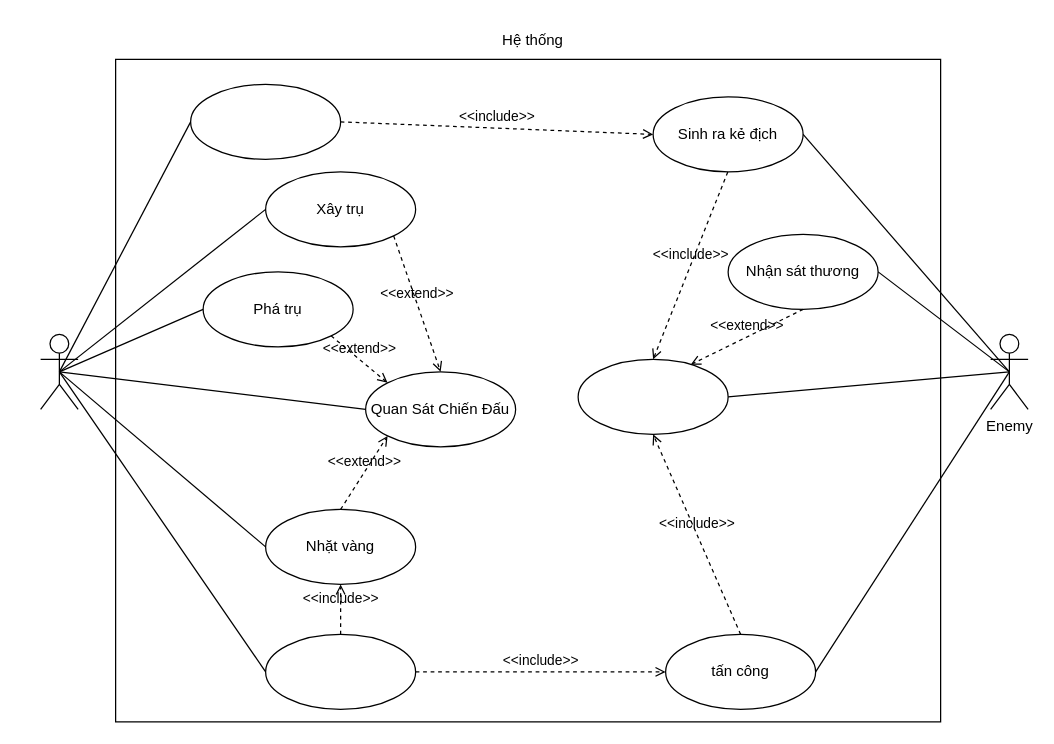
Image size: 1054x744. Some labels were removed from this diagram. Here are the shapes that lost their labels. From the top down, the centre of each, then its label:
At point 265,121: "Bắt đầu".
At point 58,371: "Người chơi".
At point 652,396: "Di chuyển".
At point 340,671: "Kiểm tra thắng/thua".
